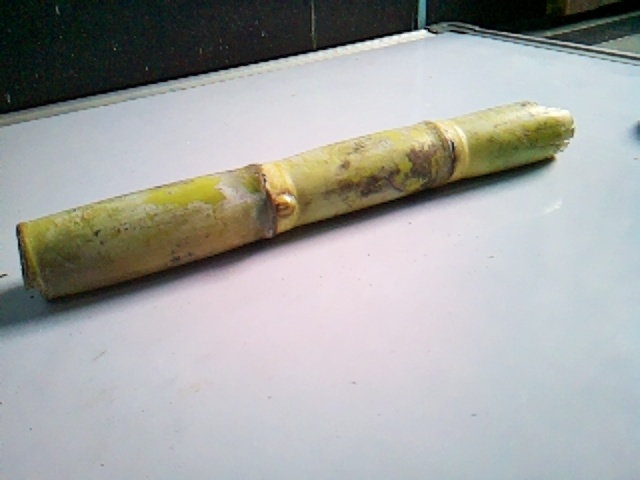Good Sugarcane: (15, 100, 574, 304)
Node: (217, 155, 309, 242), (407, 114, 477, 195)
